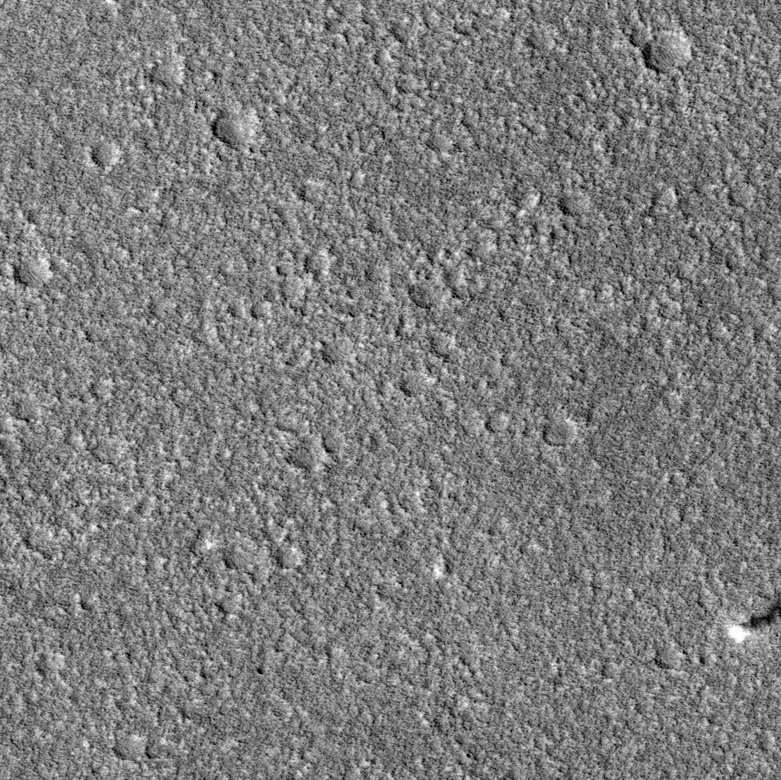dust_devil: (725, 594, 781, 644)
